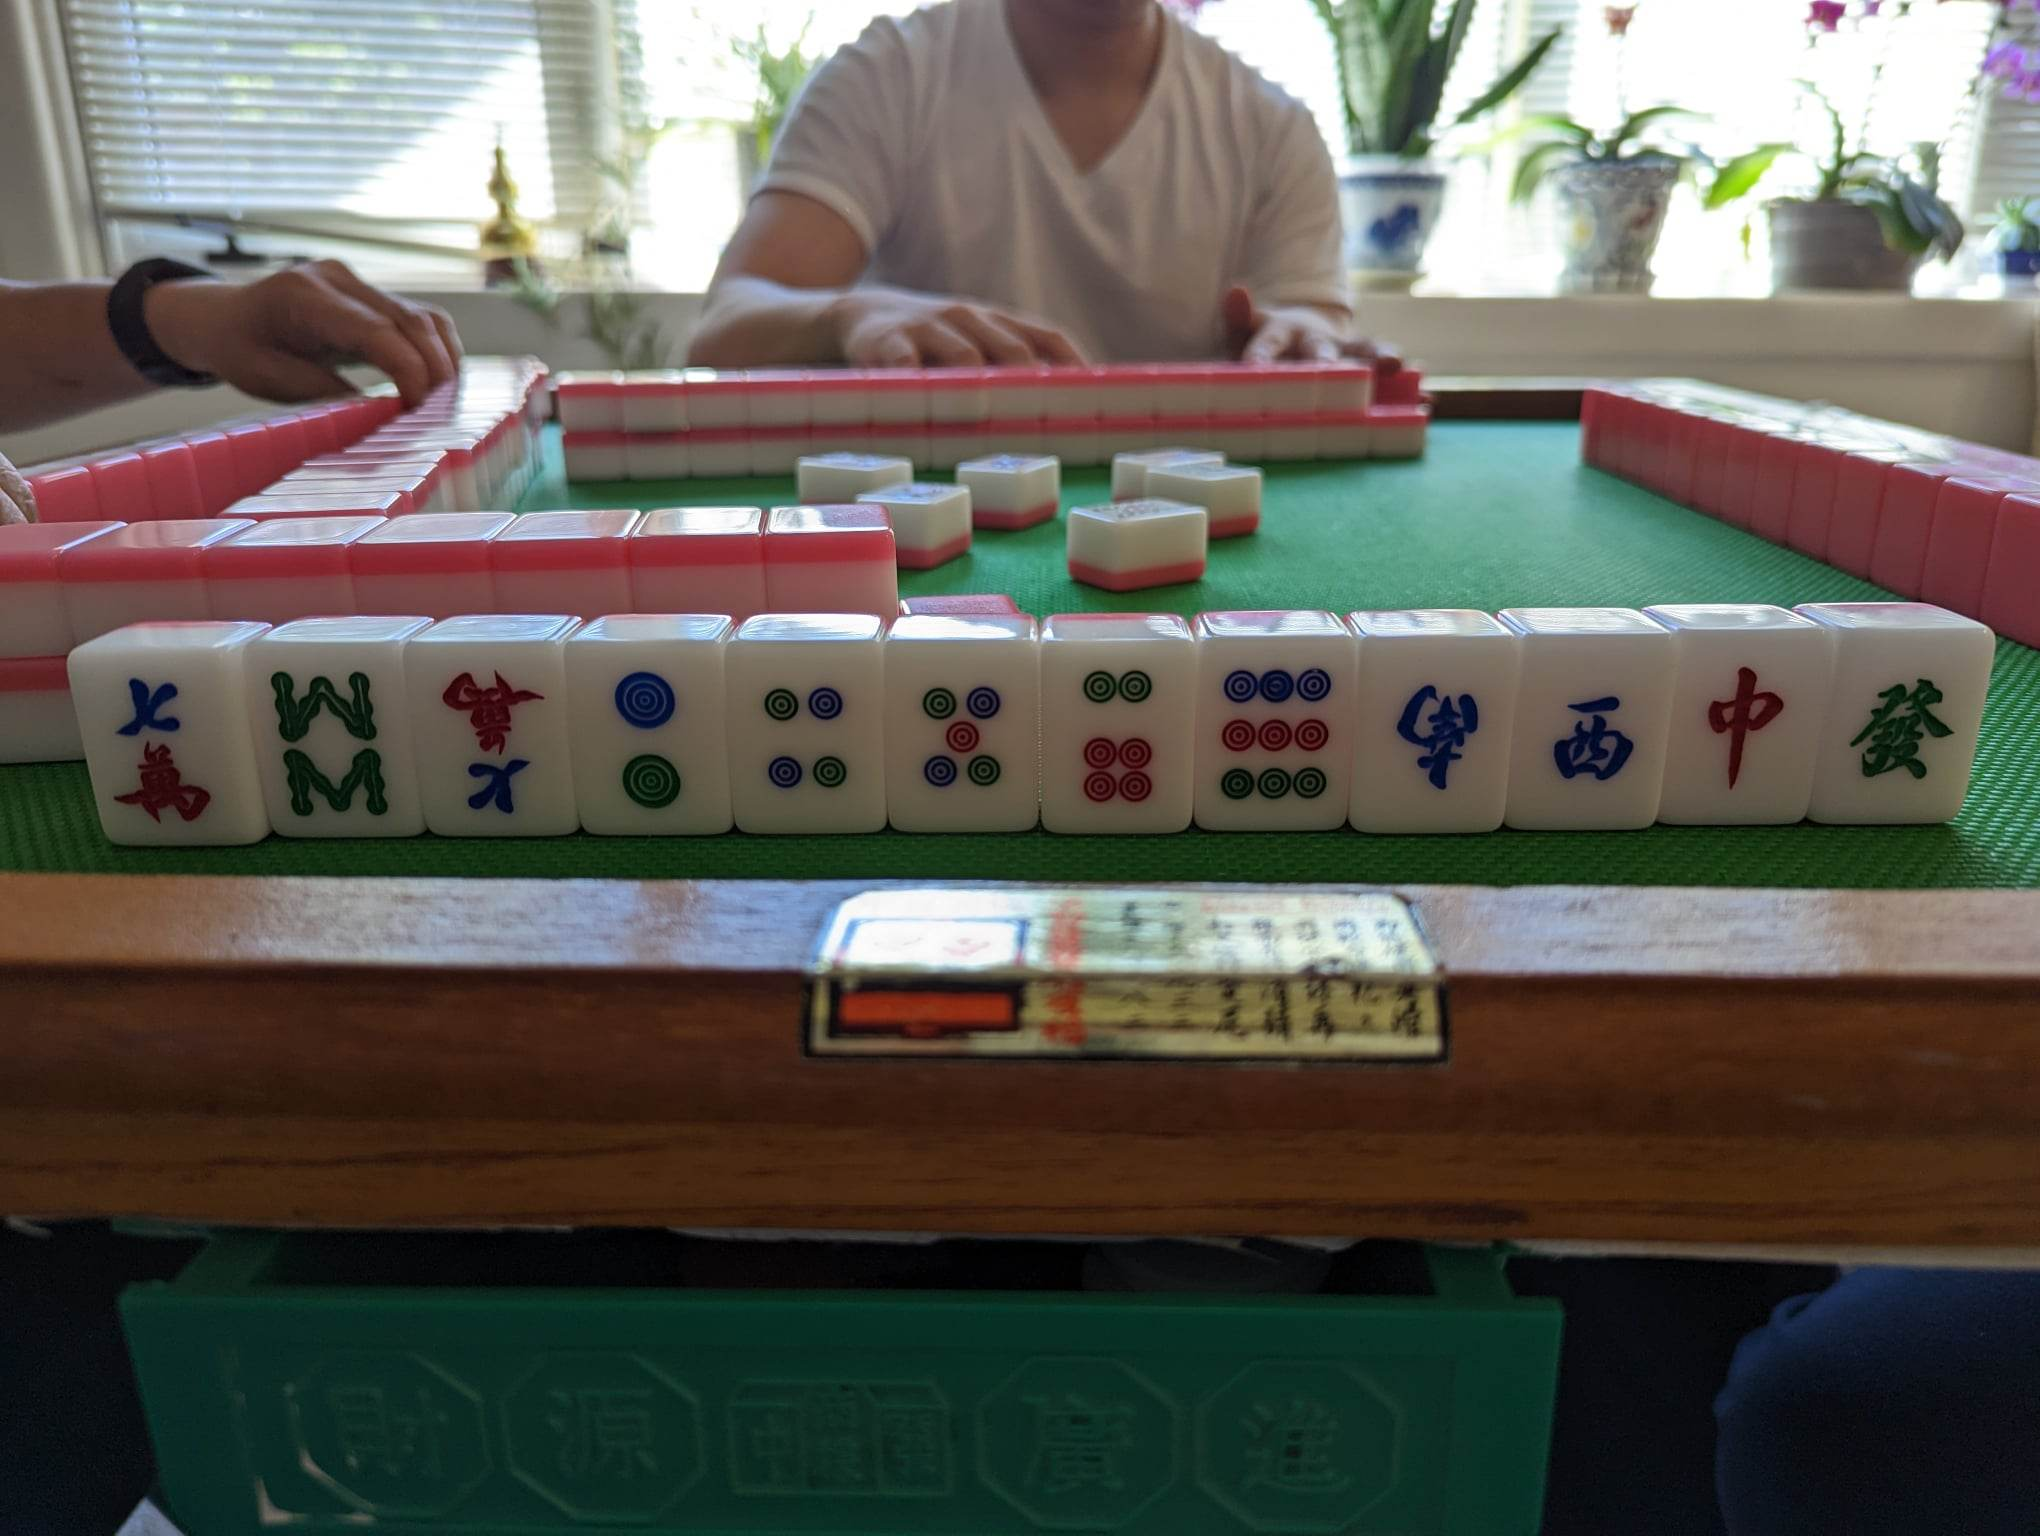bamboo-eight: (244, 641, 426, 837)
character-seven: (65, 649, 252, 844), (405, 641, 577, 836)
circle-five: (884, 639, 1040, 833)
circle-four: (724, 641, 885, 831)
circle-nine: (1197, 637, 1355, 829)
circle-six: (1040, 641, 1193, 833)
circle-two: (563, 639, 734, 833)
honor-green_dragon: (1808, 628, 1998, 824)
honor-red_dragon: (1659, 629, 1834, 823)
honor-south_wind: (1348, 634, 1519, 833)
honor-west_wind: (1509, 632, 1679, 828)
